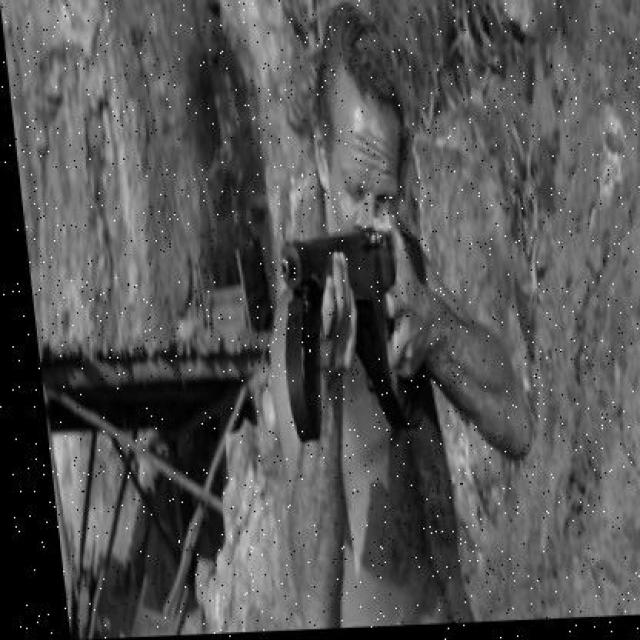weapon: (280, 216, 431, 444)
